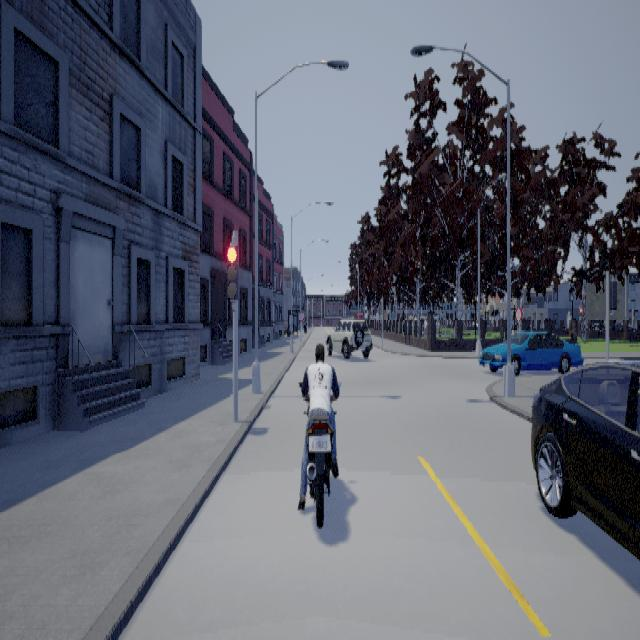motobike: (298, 344, 344, 532)
red_light: (228, 232, 240, 310)
vehicle: (531, 330, 640, 563), (477, 323, 585, 374), (326, 315, 374, 359)
